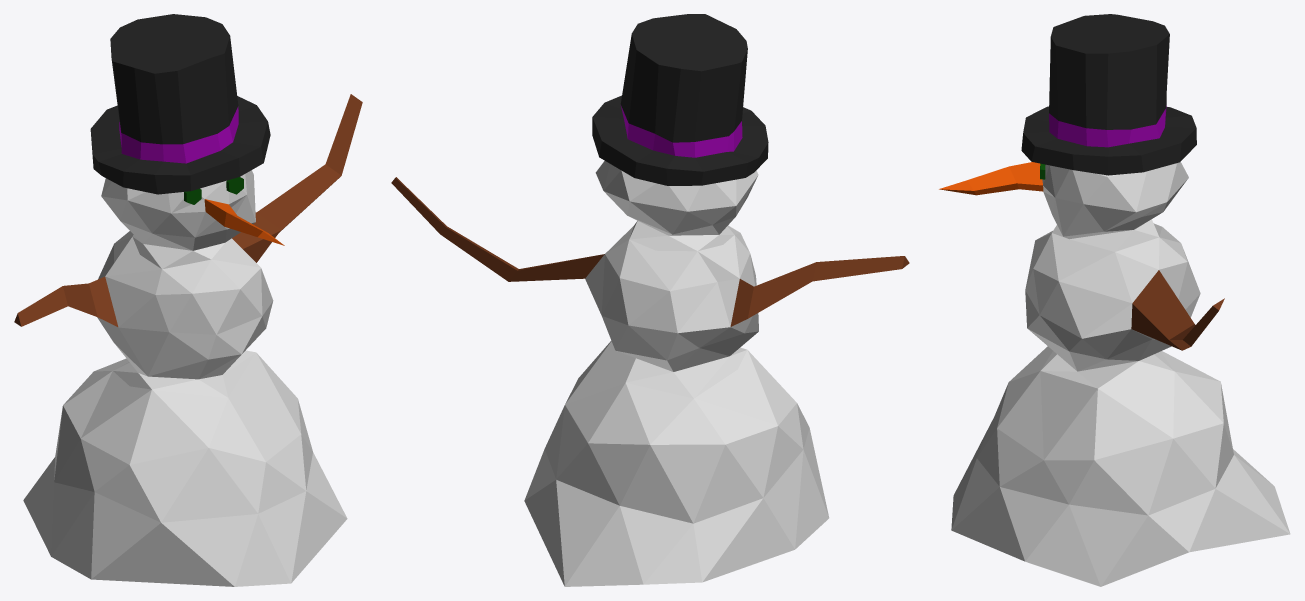
File: Snowman.fbx
3 renders of one model, left to right at view 1: azimuth 30°, elevation 25°; view 2: azimuth 150°, elevation 25°; view 3: azimuth 270°, elevation 25°, orthographic. The views are drawn at different scales.
Parts seen in each view (by area): view 1: Icosphere; view 2: Icosphere; view 3: Icosphere.
Part boxes in pixels (bbox=[...]): Icosphere: bbox=[14, 14, 362, 586]; Icosphere: bbox=[391, 14, 909, 586]; Icosphere: bbox=[939, 14, 1290, 586].
Bounding box in the file's own units: 368 × 407 × 265.
